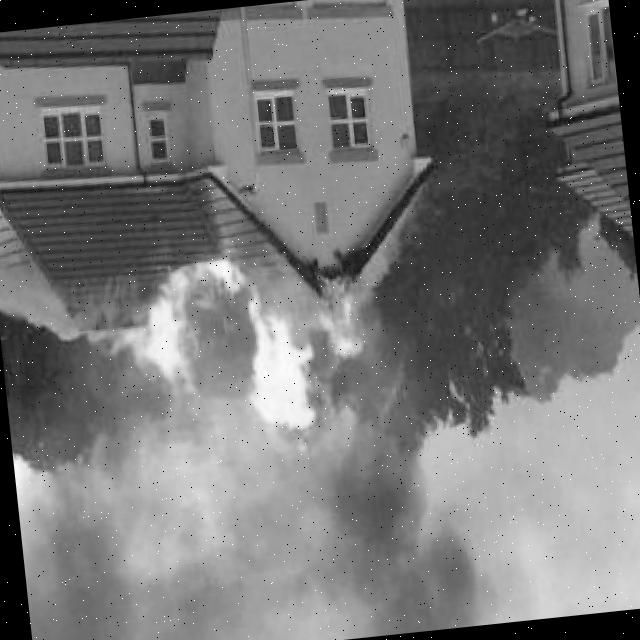fire: (9, 374, 497, 640), (108, 233, 362, 439), (338, 175, 438, 329), (0, 256, 80, 352)
